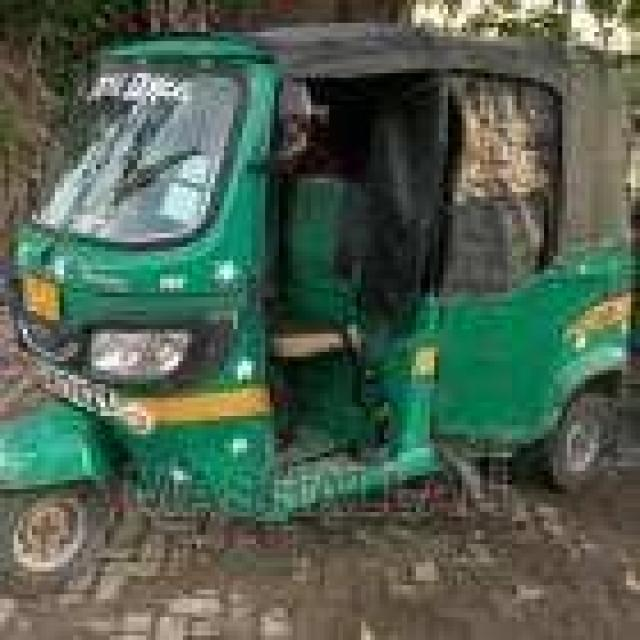tuktuk: (0, 2, 640, 606)
